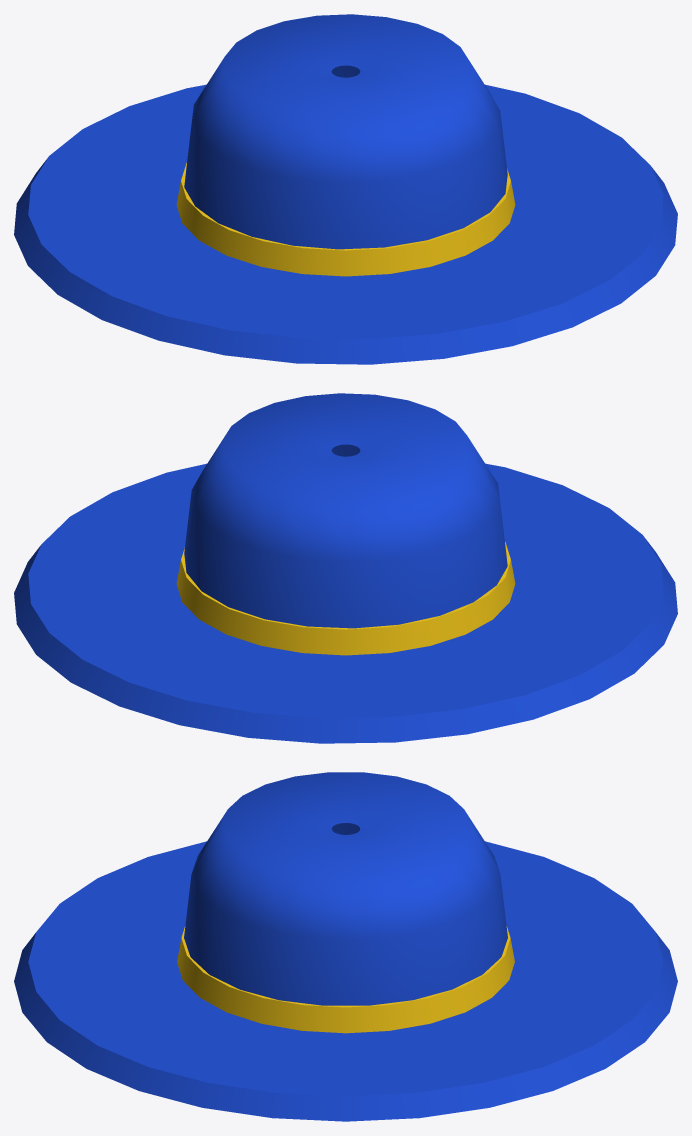
The model's file is explorer.glb.
3 views of the same model, one above another, from view 1: azimuth 30°, elevation 25°; view 2: azimuth 150°, elevation 25°; view 3: azimuth 270°, elevation 25° (orthographic).
Parts seen in each view (by area): view 1: explorer_brim, explorer_crown, explorer_band; view 2: explorer_brim, explorer_crown, explorer_band; view 3: explorer_brim, explorer_crown, explorer_band.
Boxes of the visible parts, x1=… form: explorer_brim: x1=14, y1=84, x2=677, y2=364; explorer_crown: x1=184, y1=14, x2=507, y2=249; explorer_band: x1=176, y1=163, x2=515, y2=276; explorer_brim: x1=14, y1=463, x2=677, y2=743; explorer_crown: x1=184, y1=393, x2=507, y2=628; explorer_band: x1=176, y1=542, x2=515, y2=655; explorer_brim: x1=14, y1=841, x2=677, y2=1121; explorer_crown: x1=184, y1=772, x2=507, y2=1005; explorer_band: x1=177, y1=926, x2=514, y2=1033.
Bounding box in the file's own units: 0.464 × 0.1215 × 0.464.
